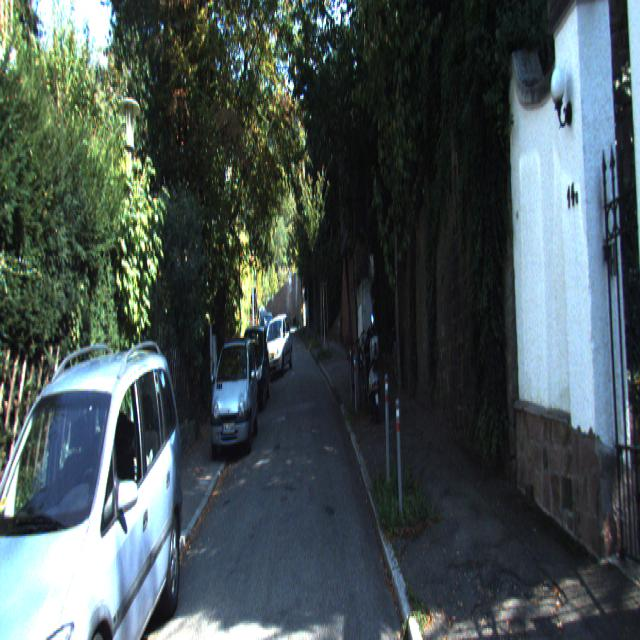Car: (0, 329, 185, 639), (210, 328, 258, 459), (237, 321, 271, 411), (261, 312, 293, 381), (364, 317, 382, 429)
